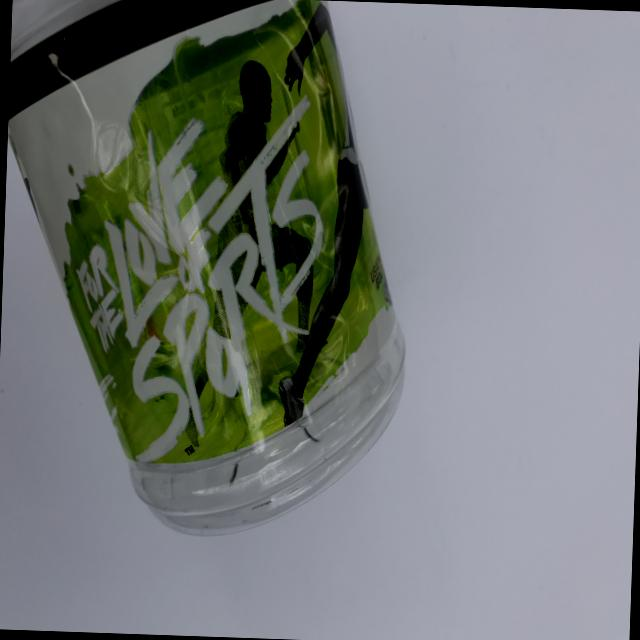Plastic: (0, 0, 423, 569)
